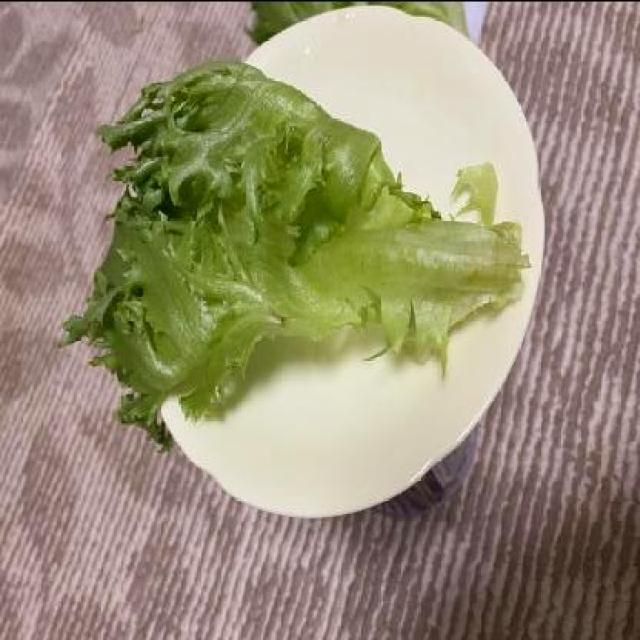Lettuce: (68, 58, 530, 441)
